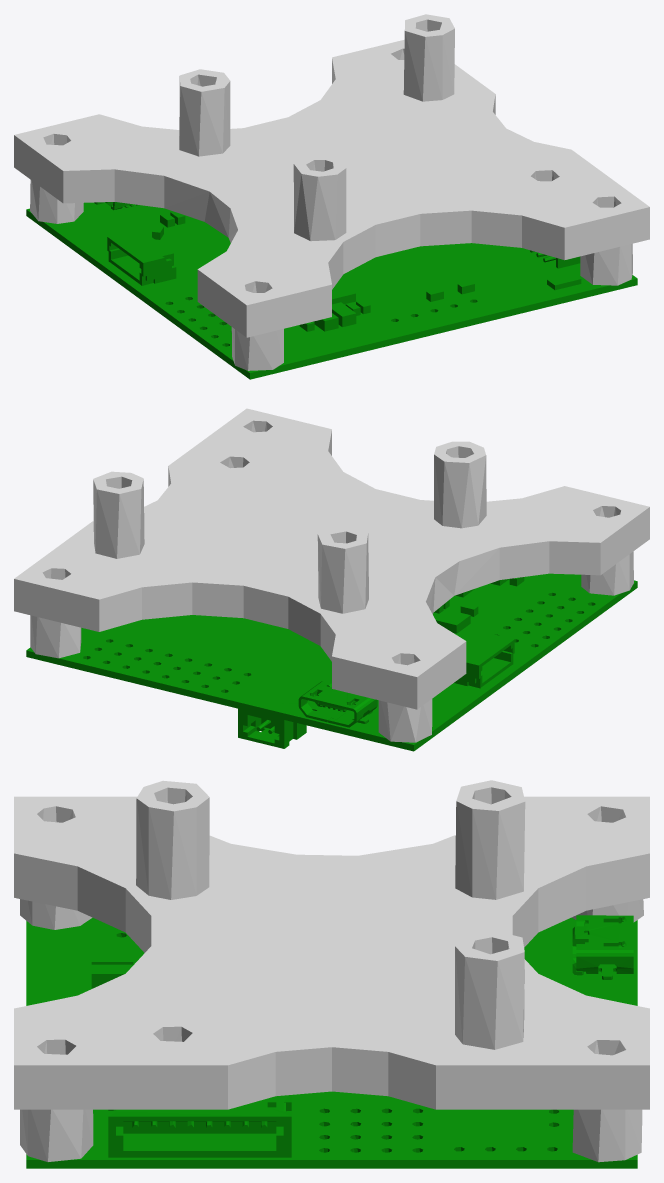
3 views of the same model, one above another, from view 1: azimuth 30°, elevation 25°; view 2: azimuth 150°, elevation 25°; view 3: azimuth 270°, elevation 25° (orthographic). The views are drawn at different scales.
Visible parts, largest first — view 1: White, Green; view 2: White, Green; view 3: White, Green.
Boxes of the visible parts, x1,y1,x2,y2 form: White: (14,14,649,370); Green: (26,202,637,379); White: (14,408,649,742); Green: (26,573,637,751); White: (14,780,649,1162); Green: (26,915,637,1168).
Bounding box in the file's own units: 0.052 × 0.052 × 0.0215.
